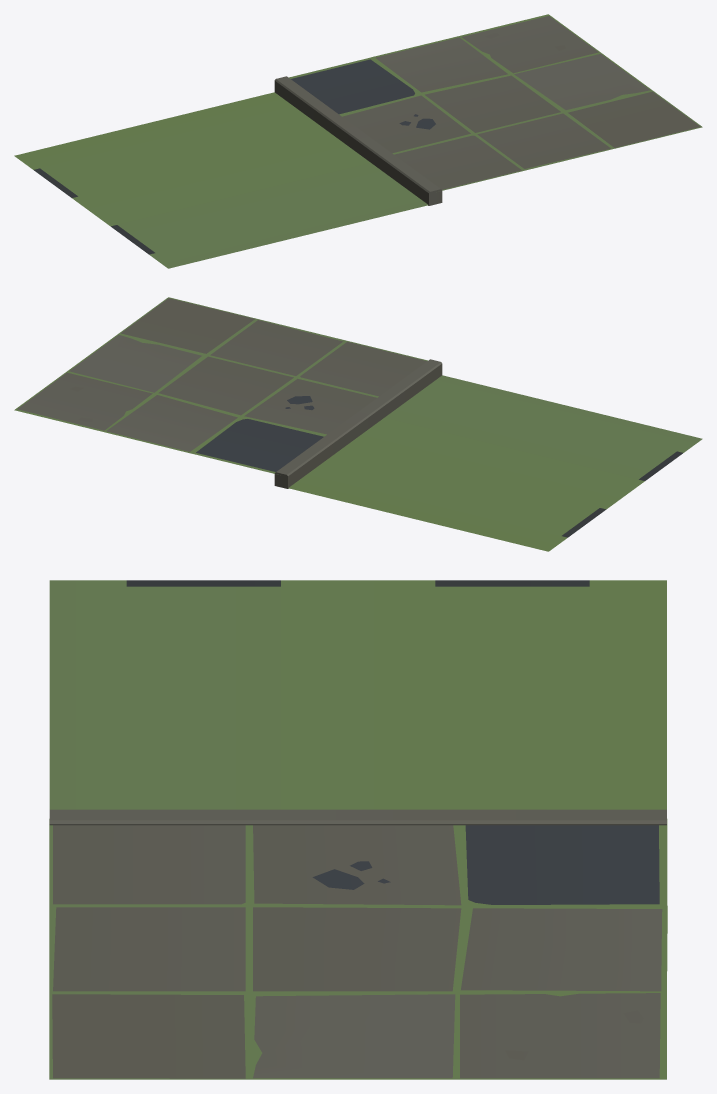
File: Road_04.fbx
The picture shows the model from 3 angles, top to bottom: view 1: azimuth 30°, elevation 25°; view 2: azimuth 150°, elevation 25°; view 3: azimuth 270°, elevation 25°; orthographic projection. The views are drawn at different scales.
Visible parts, largest first — view 1: Road_04; view 2: Road_04; view 3: Road_04.
Boxes of the visible parts, bbox=[...] form: Road_04: bbox=[14, 14, 702, 268]; Road_04: bbox=[14, 297, 702, 551]; Road_04: bbox=[49, 580, 667, 1079].
Bounding box in the file's own units: 6 × 0.15 × 3.01.
